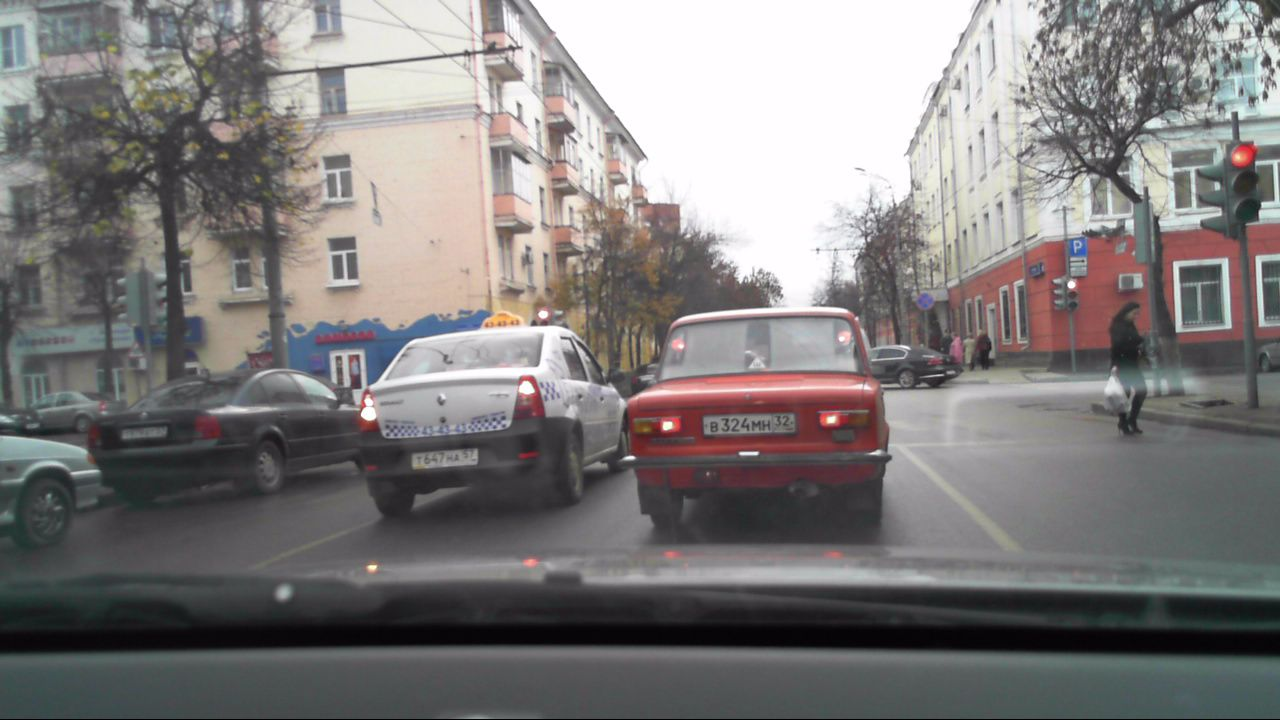No Parking: (914, 290, 938, 313)
